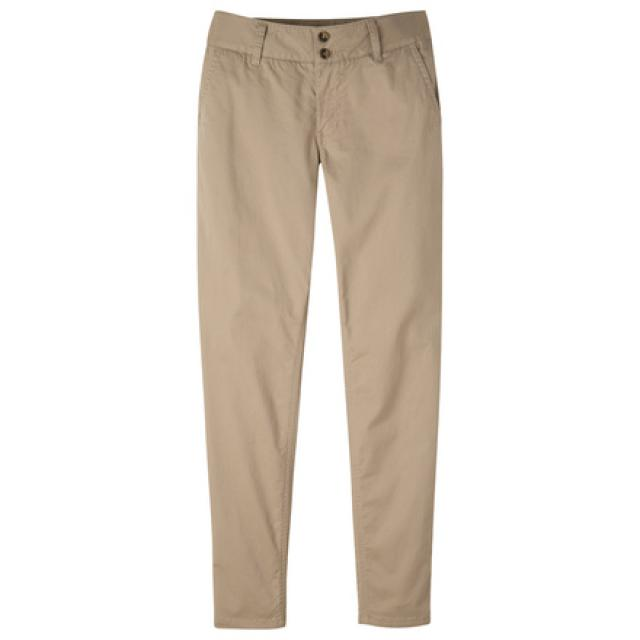long-pants: (196, 10, 445, 634)
